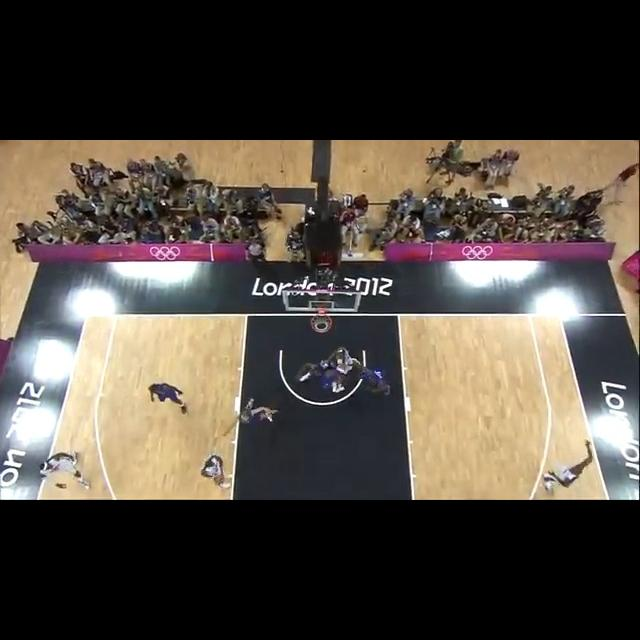basketball: (213, 472, 224, 485)
hoop: (310, 312, 333, 335)
